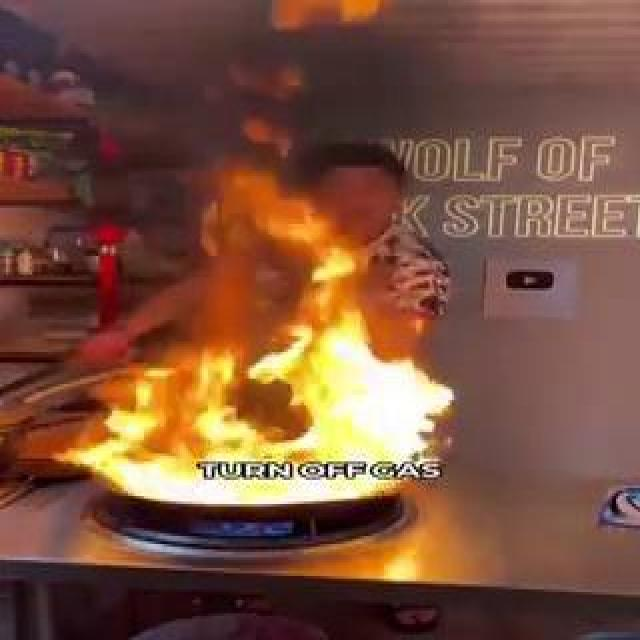Fire: (280, 290, 364, 364)
